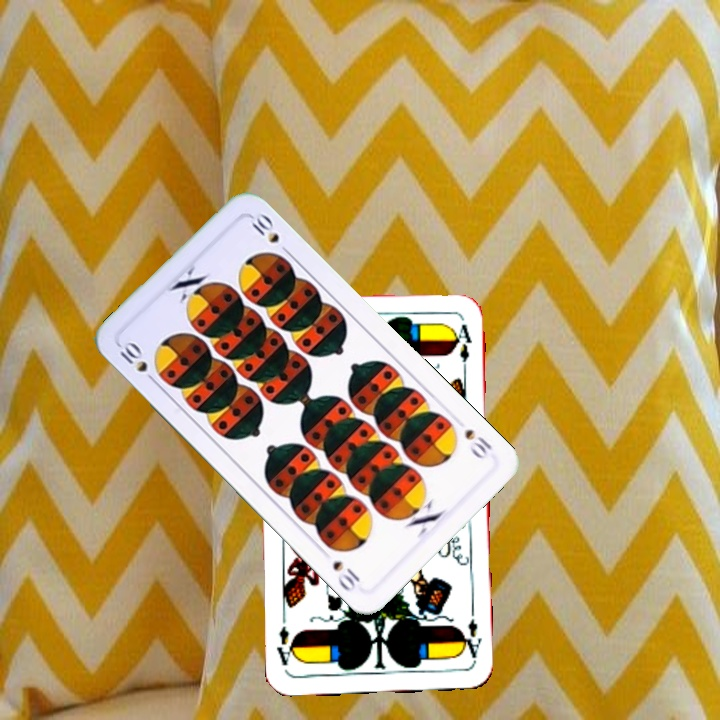EA: (457, 606, 484, 665)
S10: (115, 337, 160, 387), (460, 425, 495, 462)
